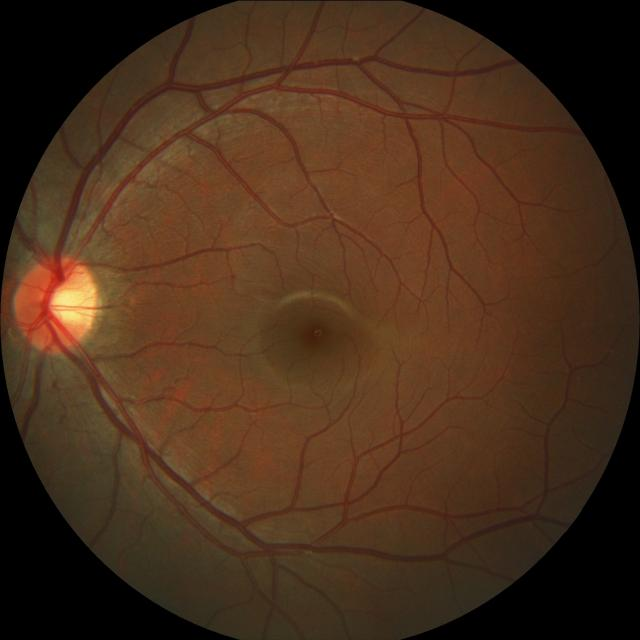OC: (46, 282, 87, 324)
OD: (13, 255, 98, 350)
